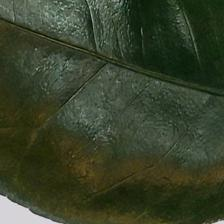healthy: (1, 0, 224, 223)
